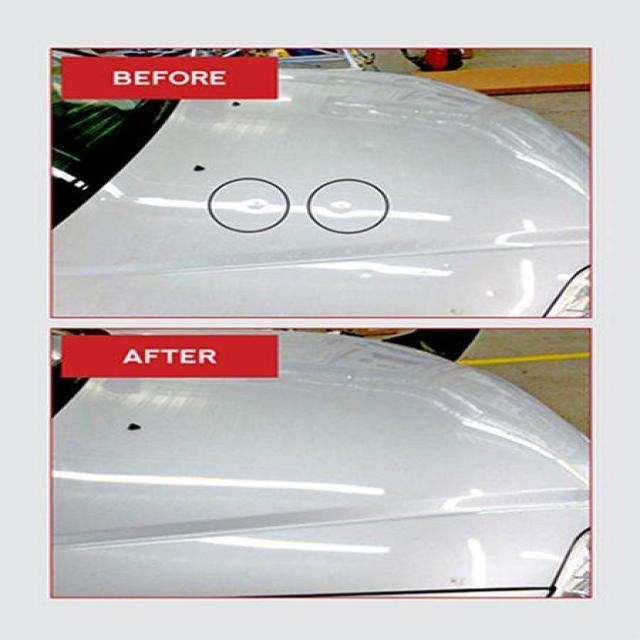dent: (326, 198, 356, 214), (245, 197, 270, 213)
